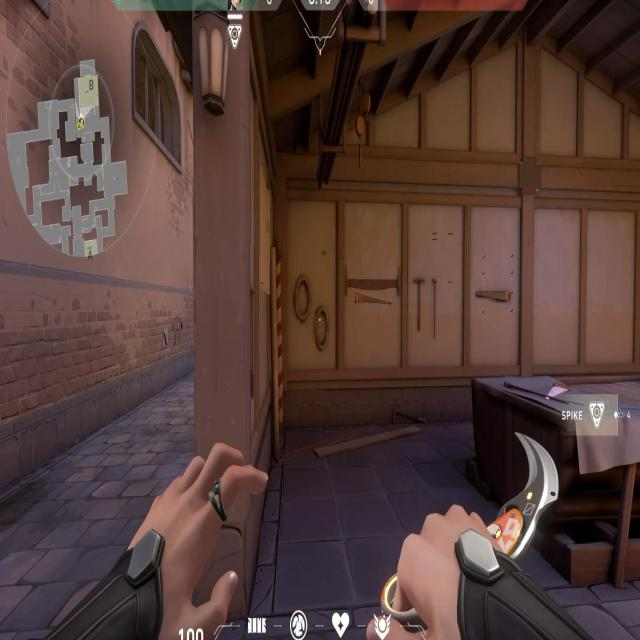B_Garage_Left: (185, 12, 466, 473)
